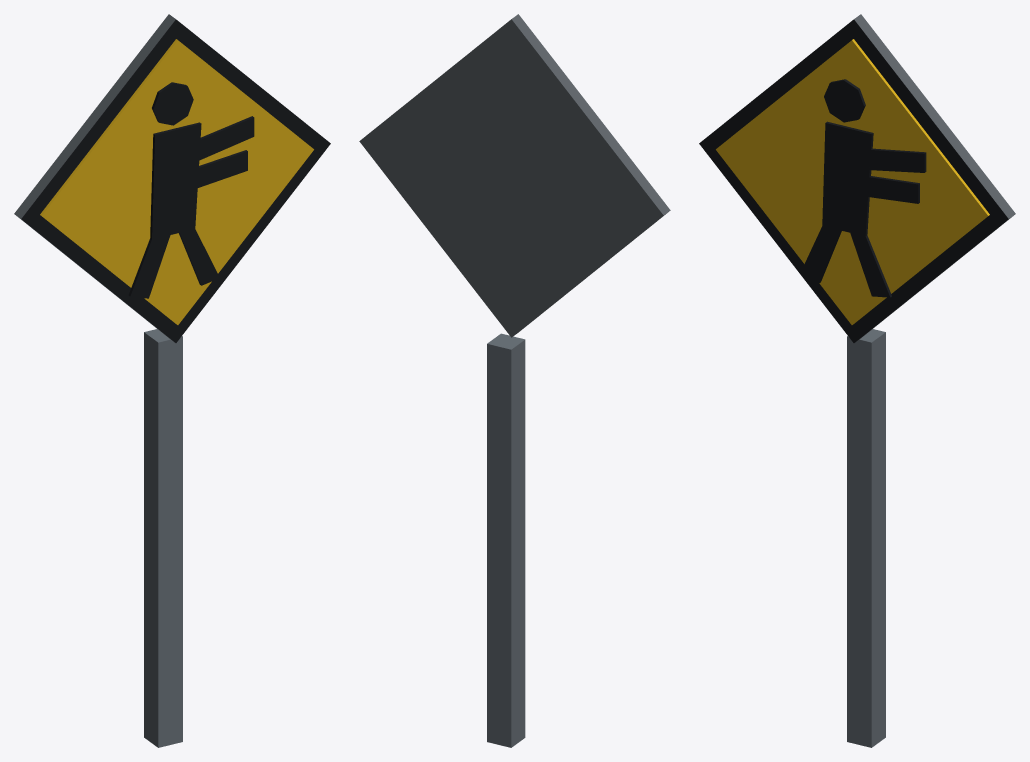
File: ds_trk_sign_zombie.glb
3 views of the same model, side by side, from view 1: azimuth 30°, elevation 25°; view 2: azimuth 150°, elevation 25°; view 3: azimuth 330°, elevation 25° (orthographic).
Visible parts, largest first — view 1: ds_trk_sign_zombie; view 2: ds_trk_sign_zombie; view 3: ds_trk_sign_zombie.
Boxes of the visible parts, box(x1,y1,x2,y2) form: ds_trk_sign_zombie: box(14, 14, 330, 747); ds_trk_sign_zombie: box(359, 14, 670, 747); ds_trk_sign_zombie: box(699, 14, 1015, 747).
Size of the model in its own units: 0.9999 by 2.25 by 0.131.
